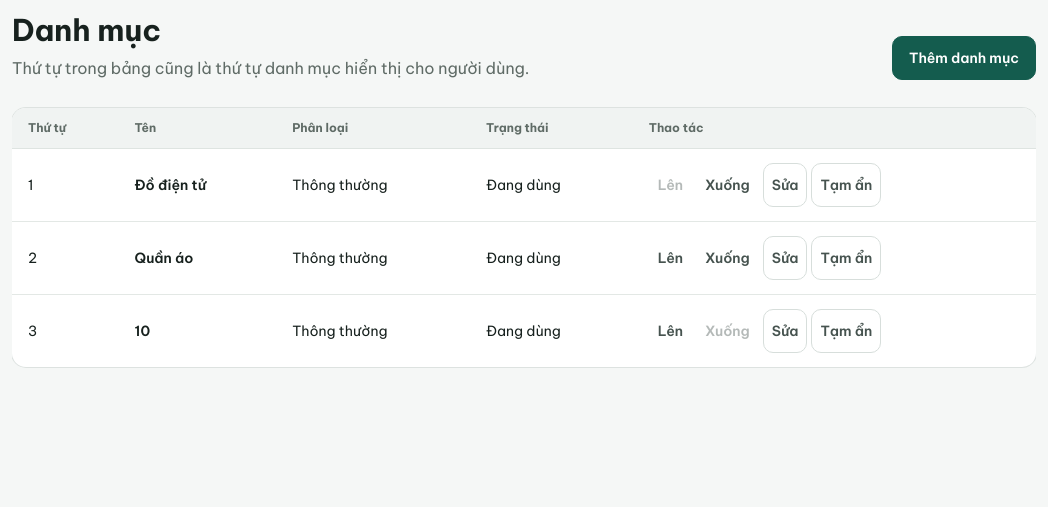
Test: ApiAdminCategories › giữ thứ tự cũ và báo lỗi khi đổi thứ tự thất bại
expect the text "Đồ điện tử" is shown: met, box 119,148 -> 276,222
Step 1. Click the button "Xuống" in the row of "Đồ điện tử" → (727, 185), box 696,163 -> 759,207
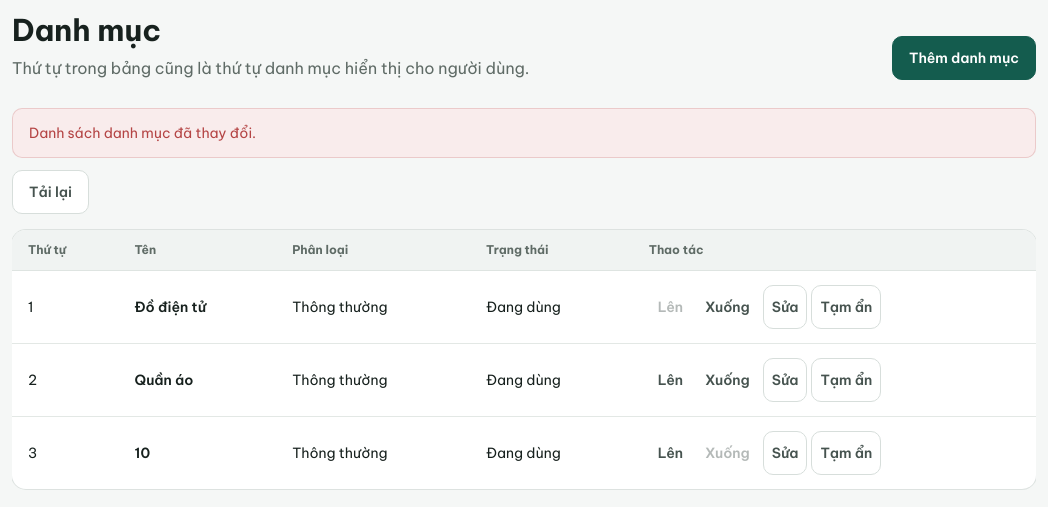
expect the text "Danh sách danh mục đã thay đổi." is shown: met, box 12,108 -> 1036,158
